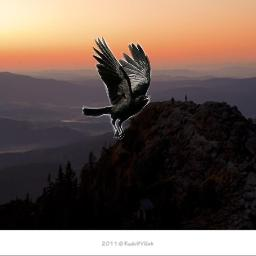Crow: (82, 36, 152, 142)
